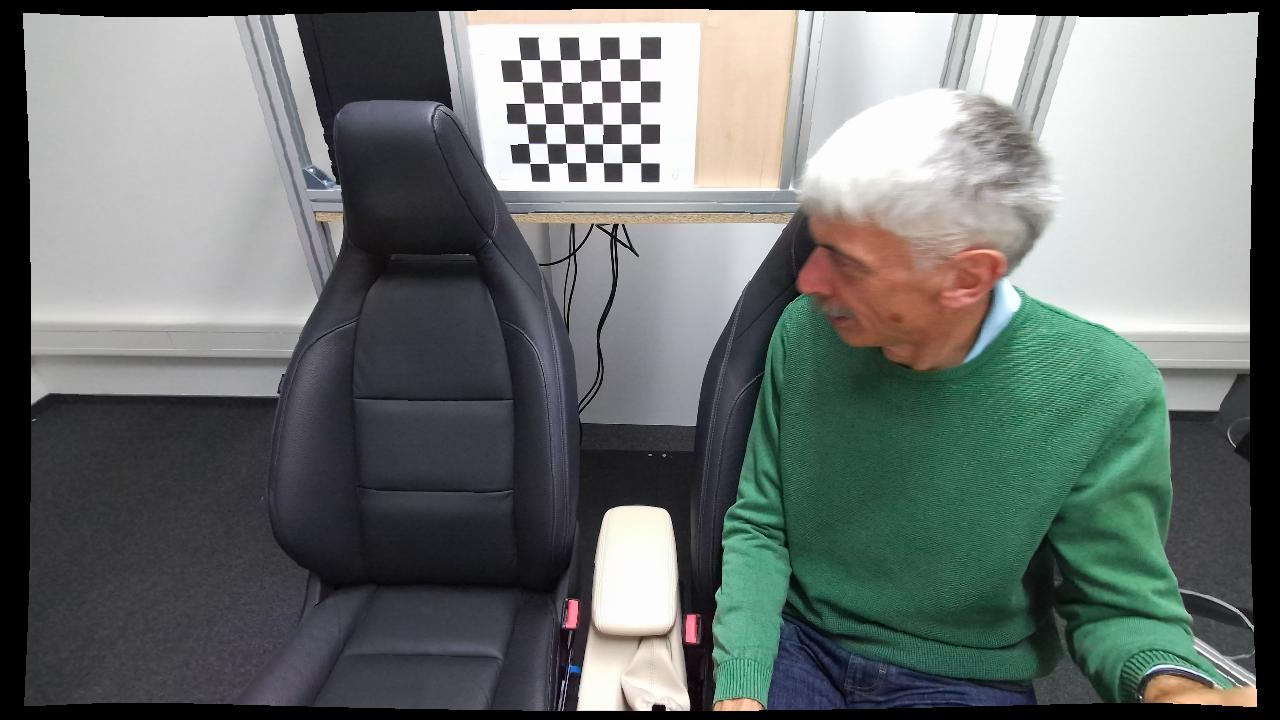Distracted: (712, 88, 1151, 713)
